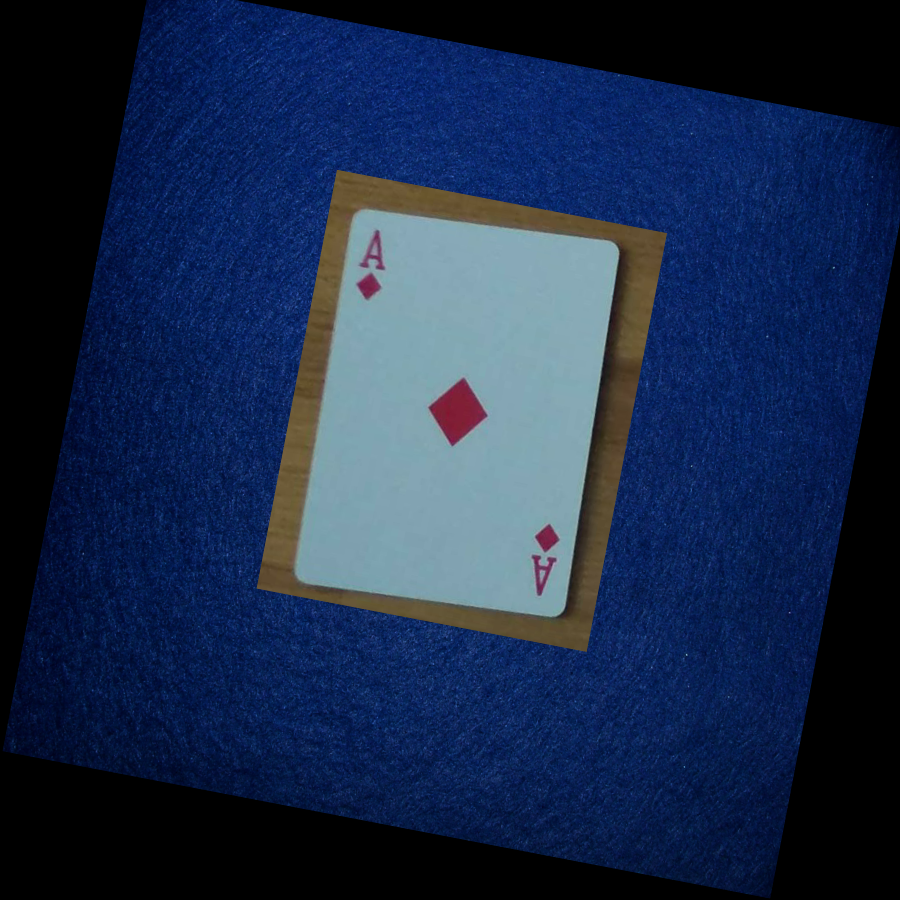1F: (505, 502, 579, 616), (340, 206, 405, 322)
